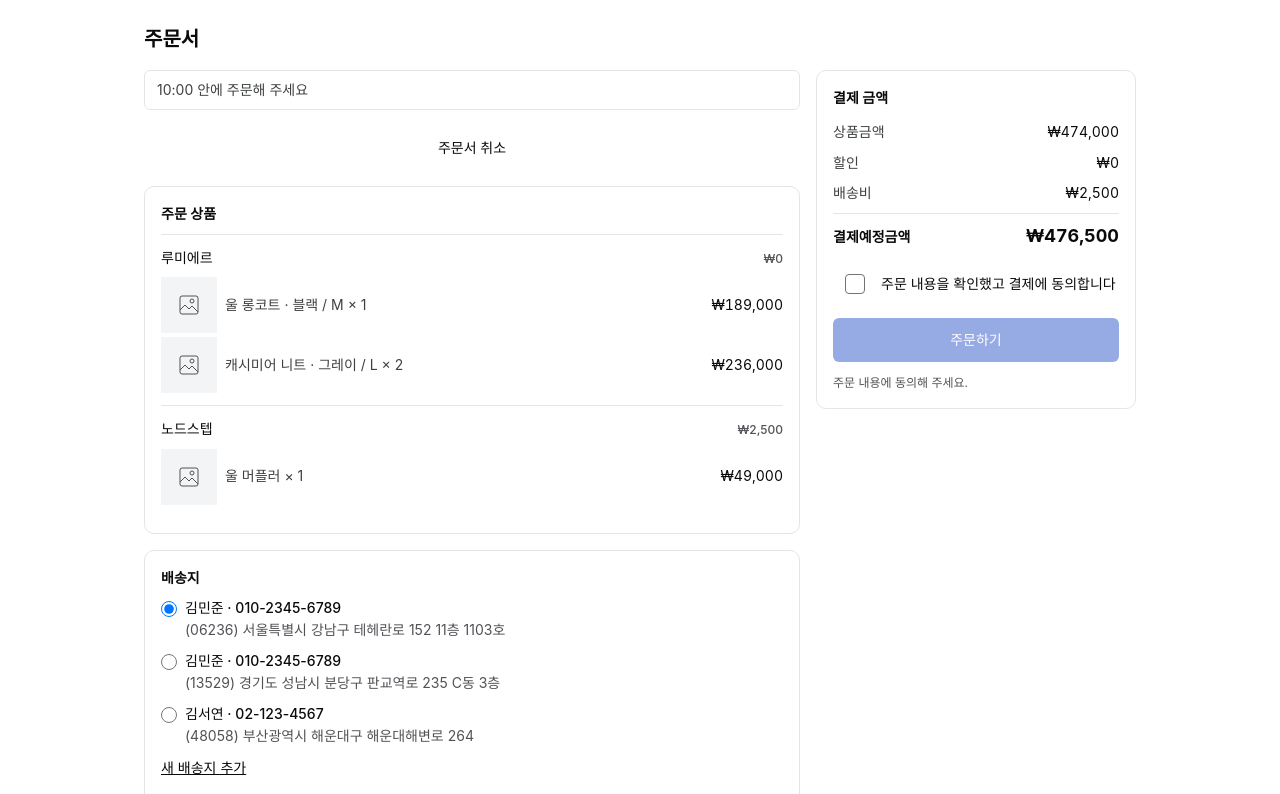
Test: 배송지와 주문 (F6 · F7) › places the order once both are settled, and says the order number (F7)
expect the element "주문 상품" is shown: met, box [144, 186, 800, 534]
Click the checkbox named "주문 내용을 확인했고 결제에 동의합니다".
click(855, 284)  # box [833, 262, 877, 306]
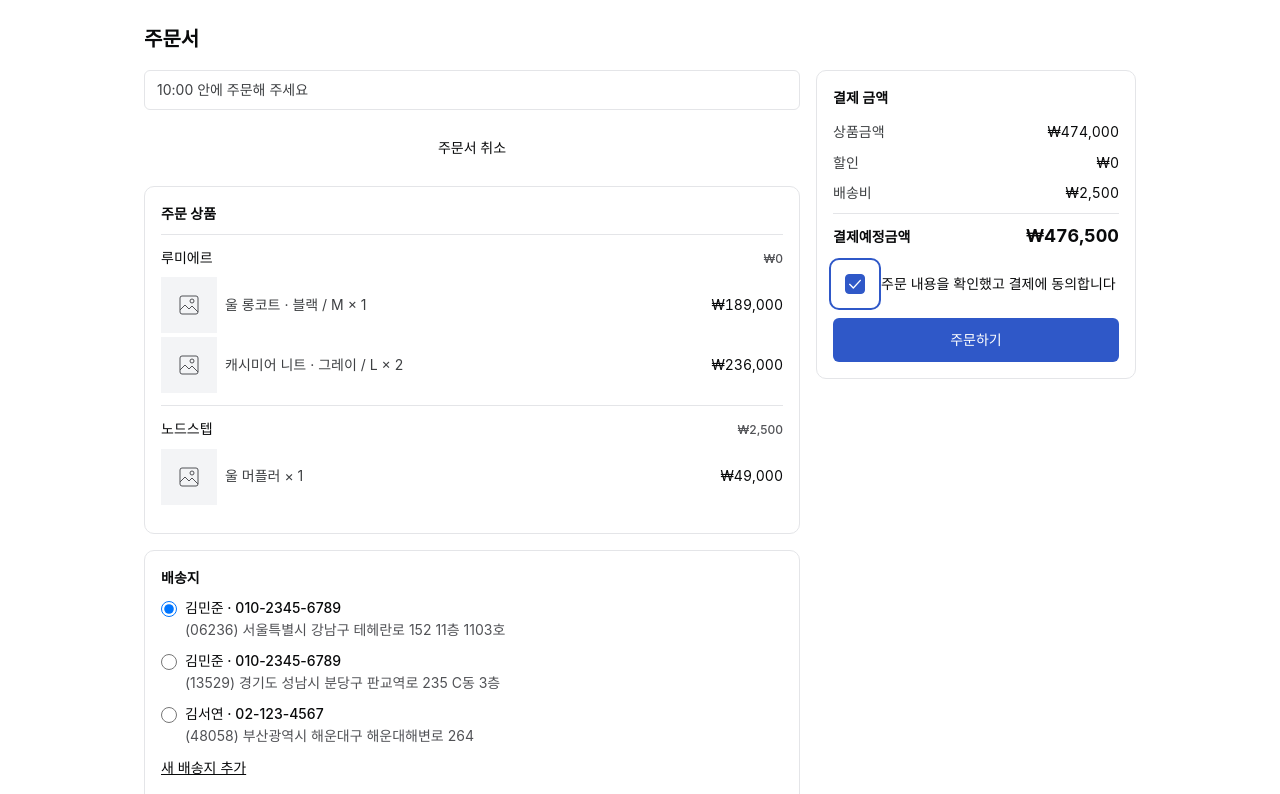
Click the button "주문하기".
click(976, 340)  # box [833, 318, 1119, 362]
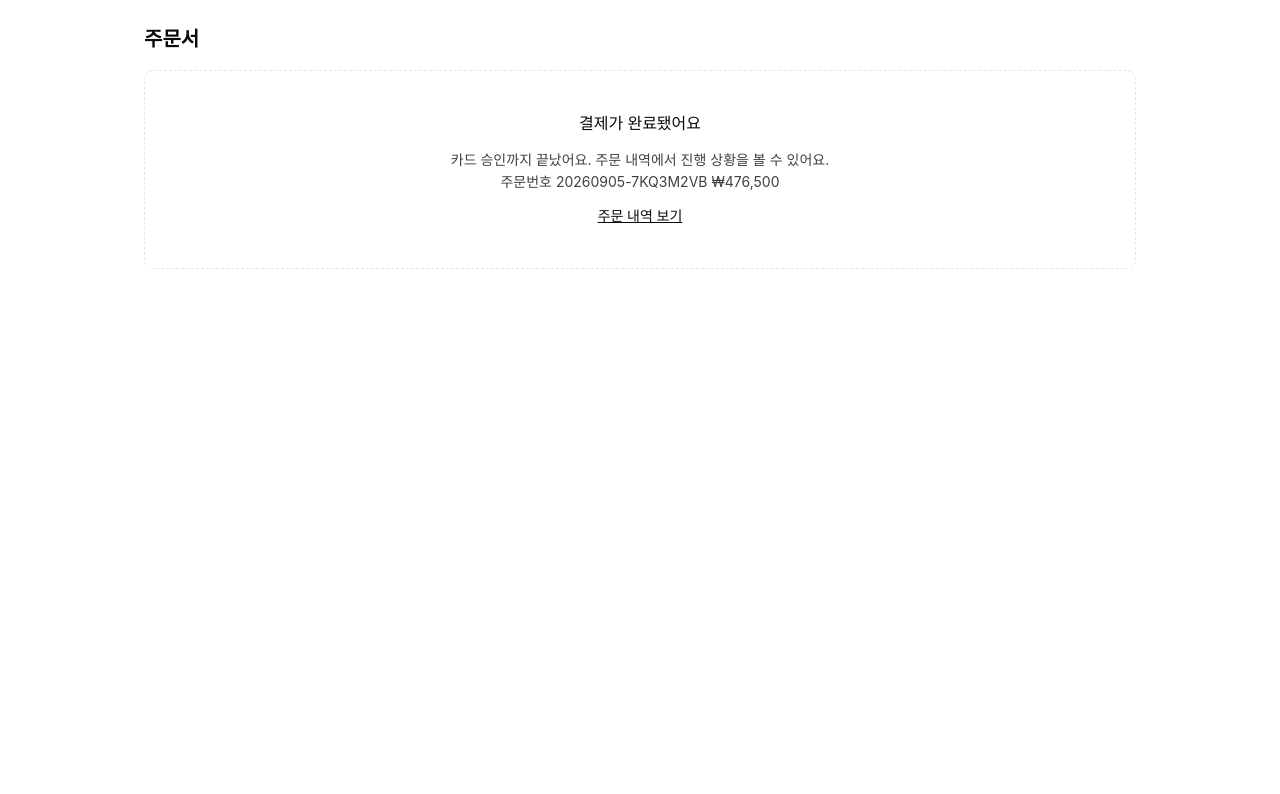
expect the text "결제가 완료됐어요" is shown: met, box [579, 111, 701, 137]
expect the text "20260905-7KQ3M2VB" is shown: met, box [451, 151, 829, 190]
